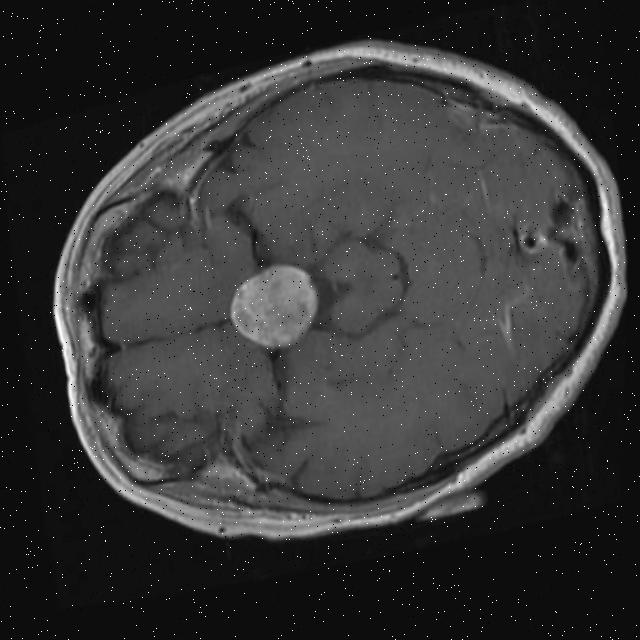Pituitary: (222, 253, 326, 360)
